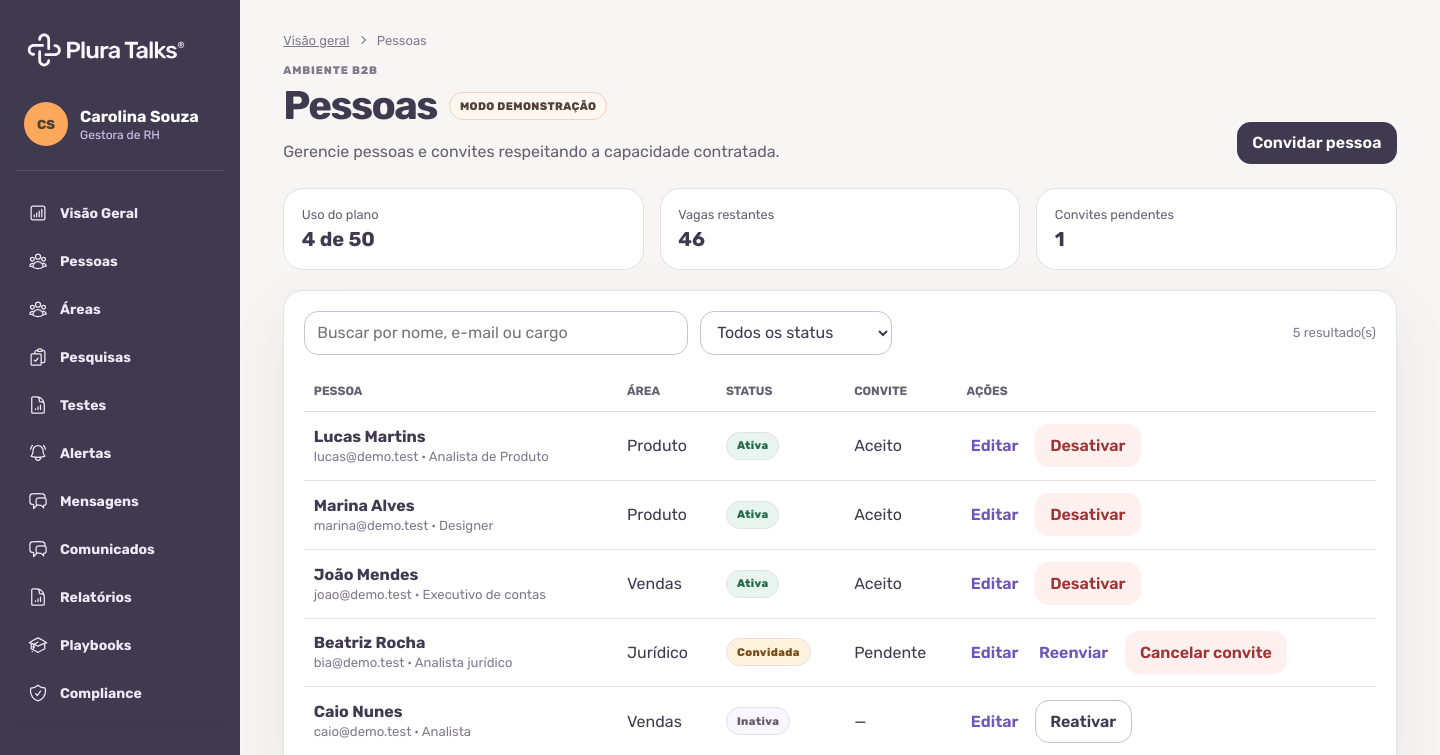
it: fluxos das configurações › convida uma pessoa e atualiza a lista e a capacidade da sessão
Expected: the text "46" is shown, [678,227,705,251]
Click the button "Convidar pessoa" at coordinates (1317, 143), box [1237,122,1397,164]
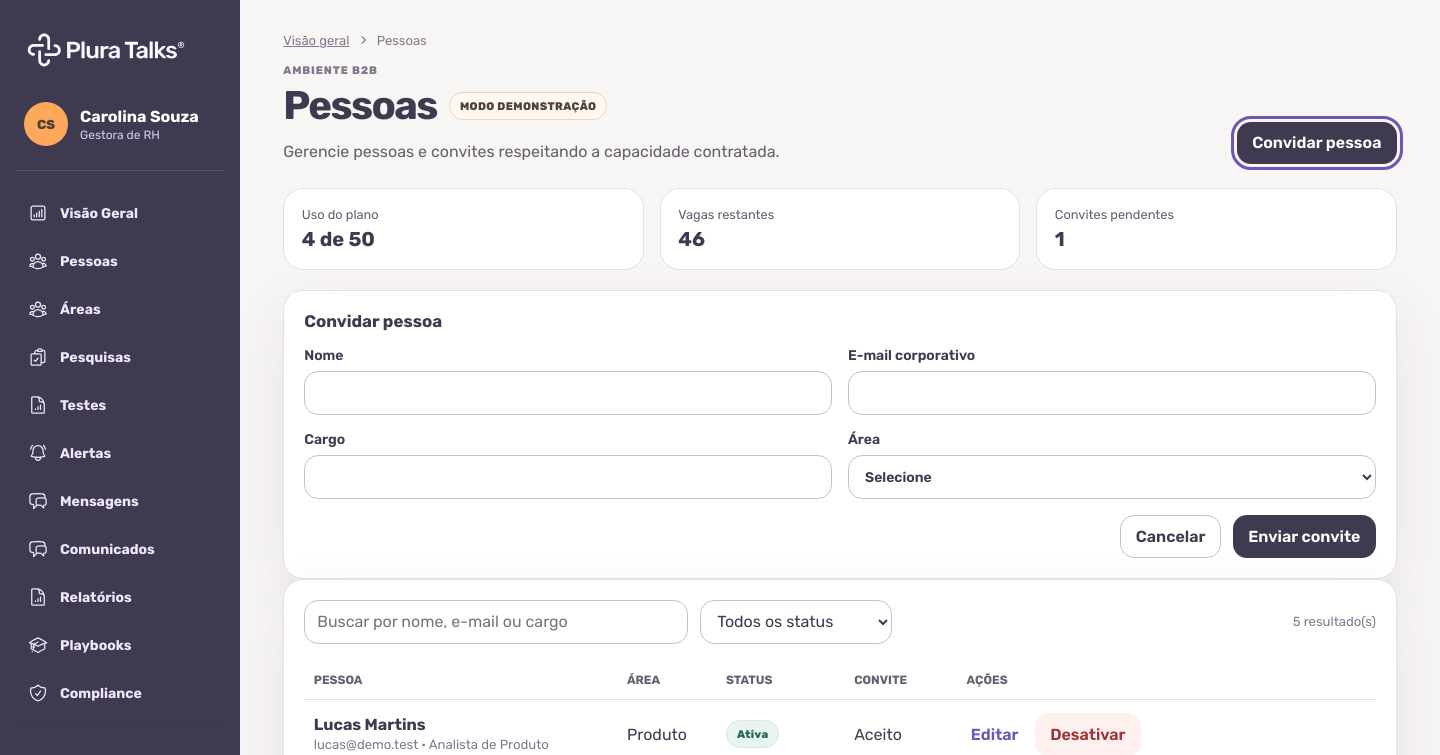
Type "Renata Melo" into the field labelled "Nome" at coordinates (568, 393), box [304,371,832,415]
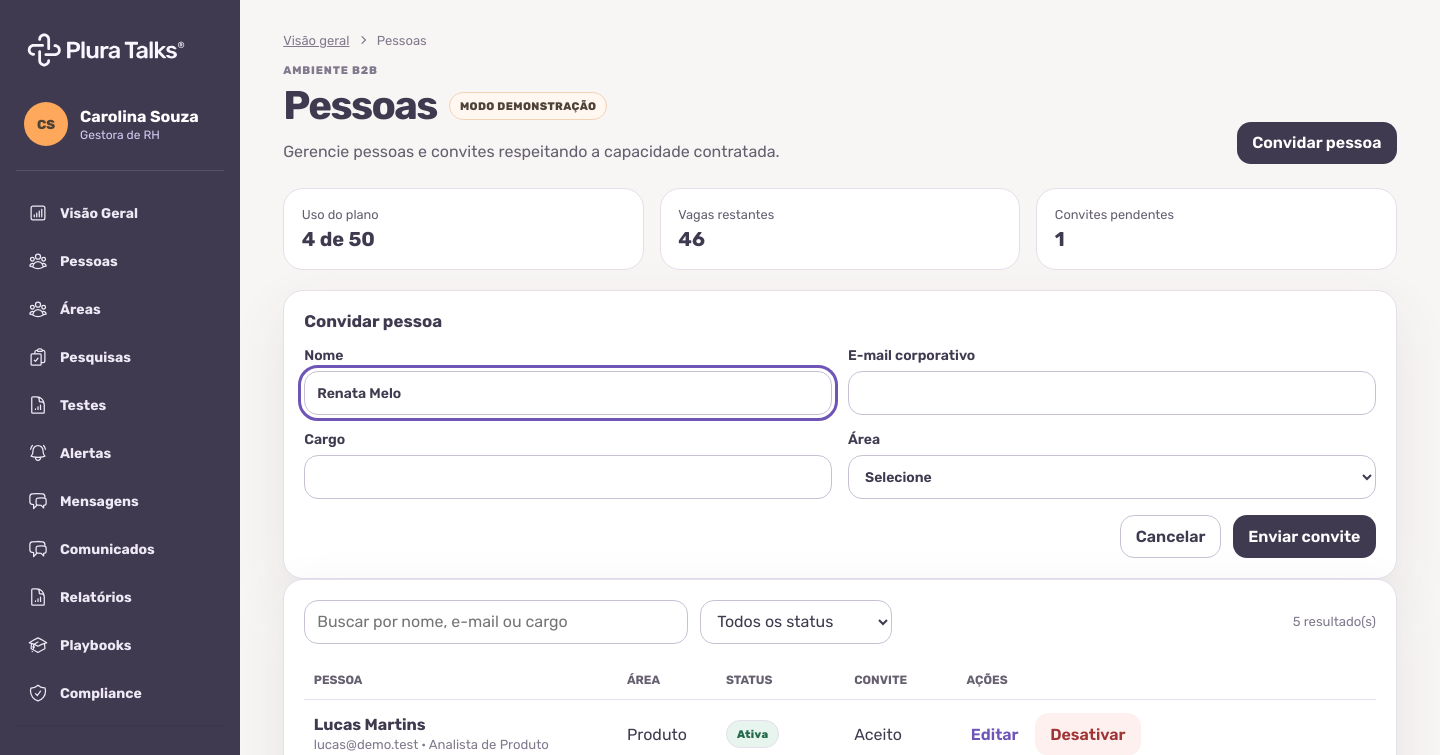
Type "renata@demo.test" into the field labelled "E-mail corporativo" at coordinates (1112, 393), box [848,371,1376,415]
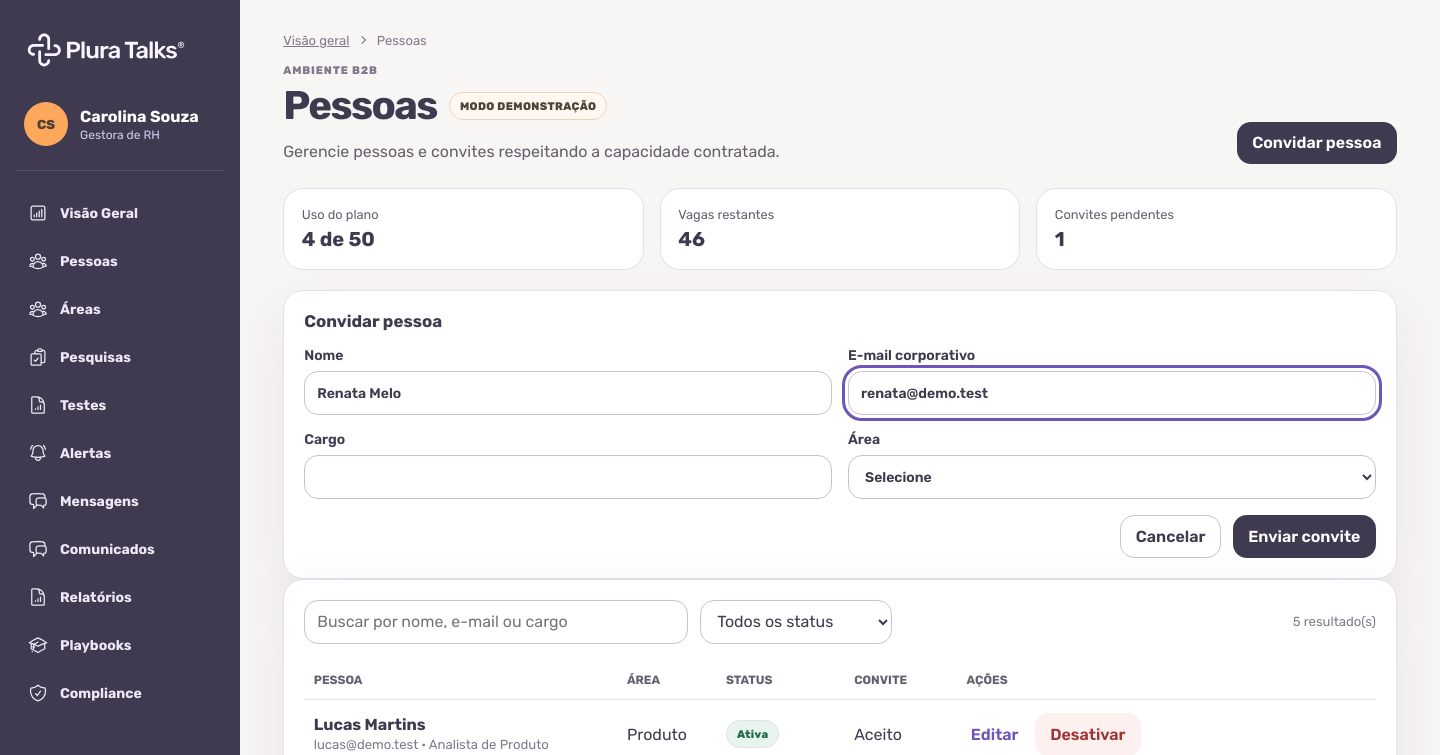
Type "Analista de pessoas" into the field labelled "Cargo" at coordinates (568, 477), box [304,455,832,499]
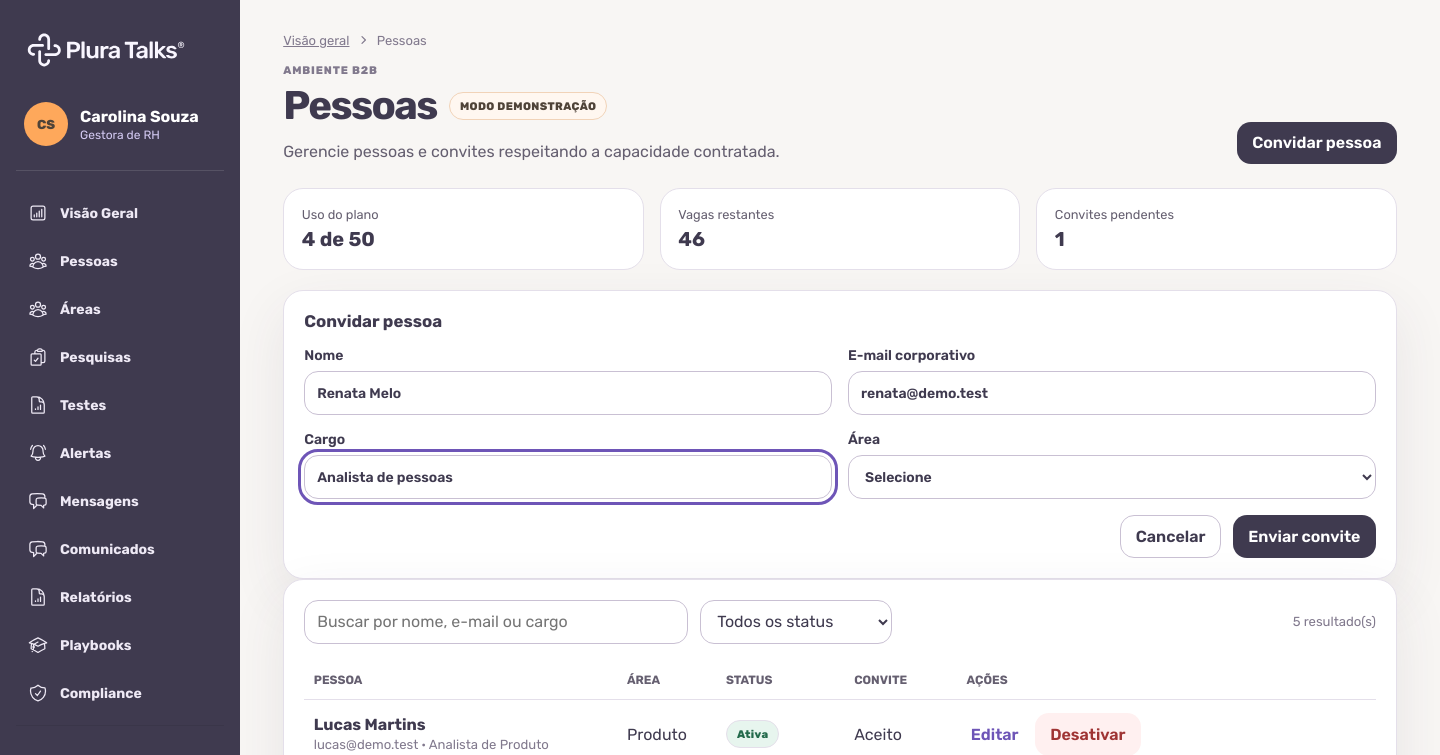
Select "Produto" in the dropdown labelled "Área" at coordinates (1112, 477), box [848,455,1376,499]
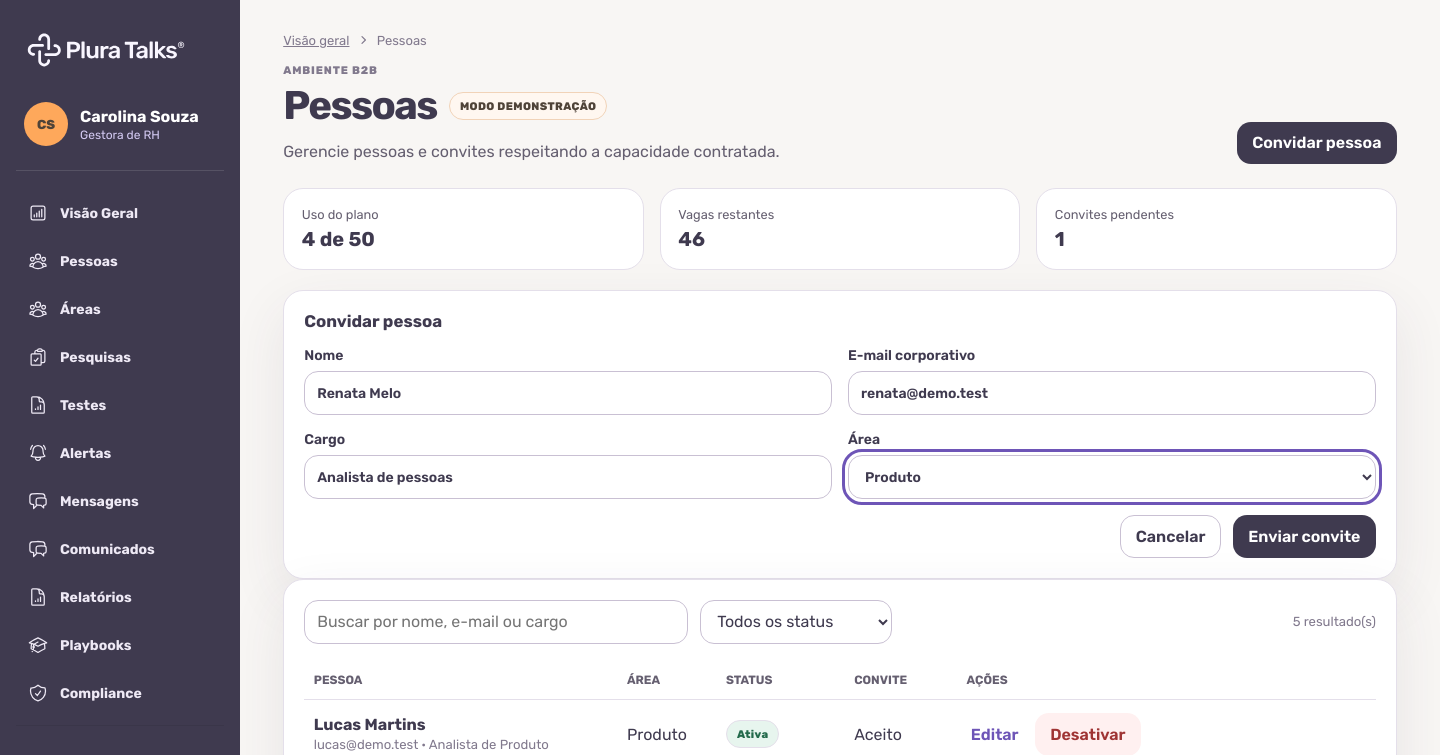
Click the button "Enviar convite" at coordinates (1304, 536), box [1233,515,1376,558]
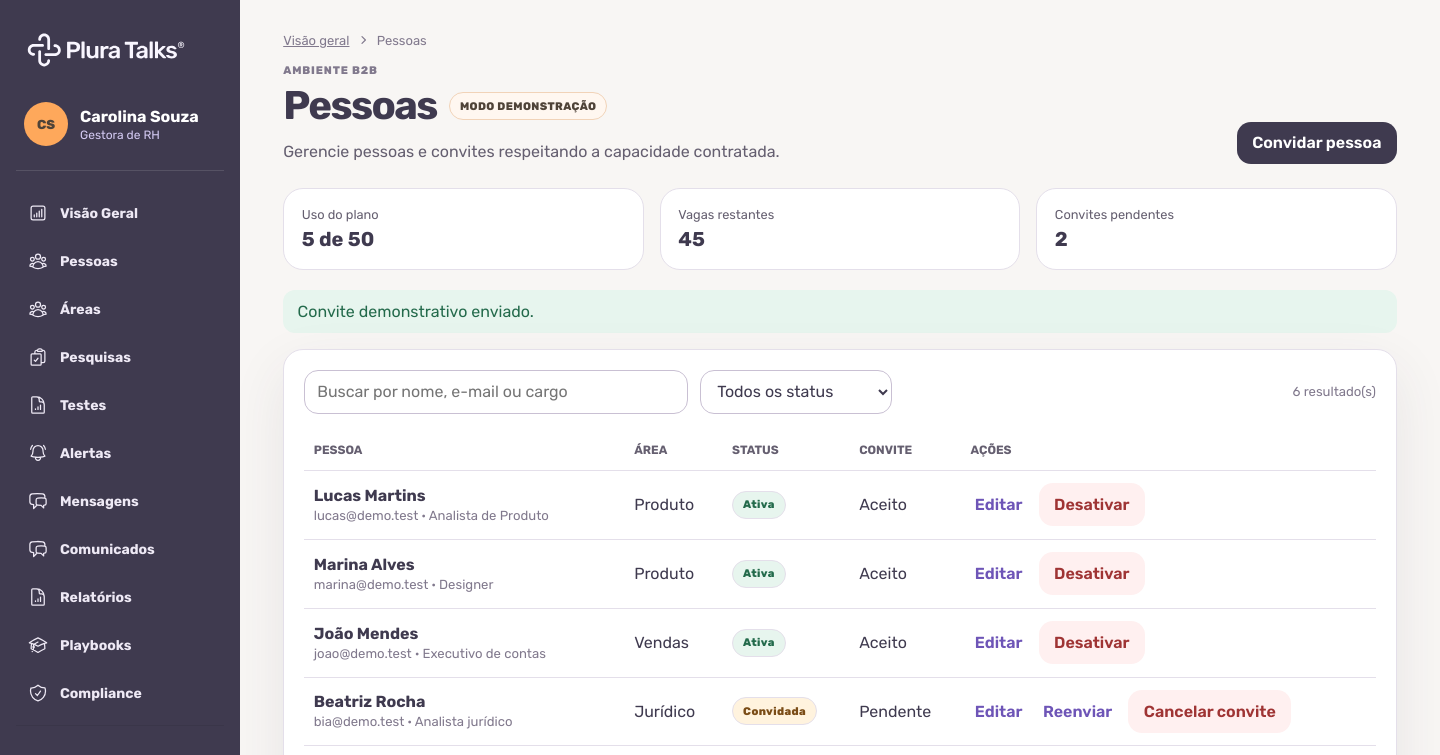
Expected: the text "Convite demonstrativo enviado." is shown, [283,290,1397,333]
Expected: the text "45" is shown, [678,227,705,251]
